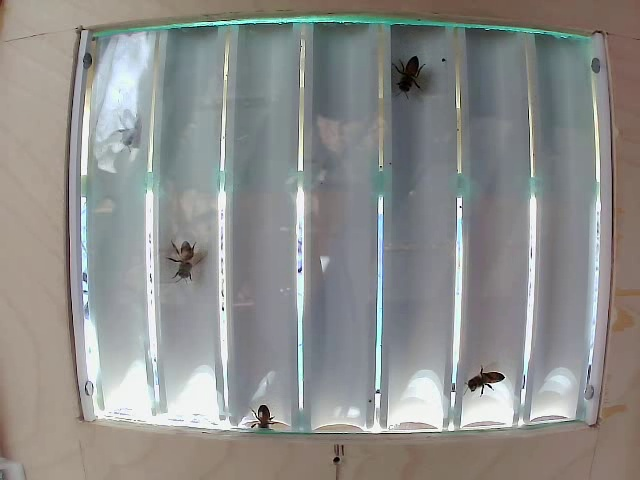bee: (165, 230, 203, 290), (239, 390, 295, 429), (391, 47, 425, 108), (470, 353, 508, 406)
